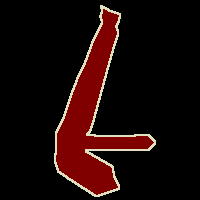tie: (55, 5, 155, 196)
